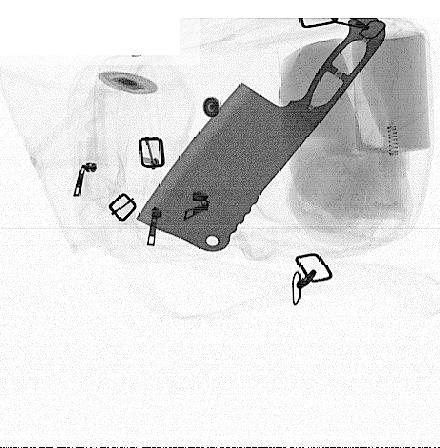Knife: (135, 16, 386, 253)
